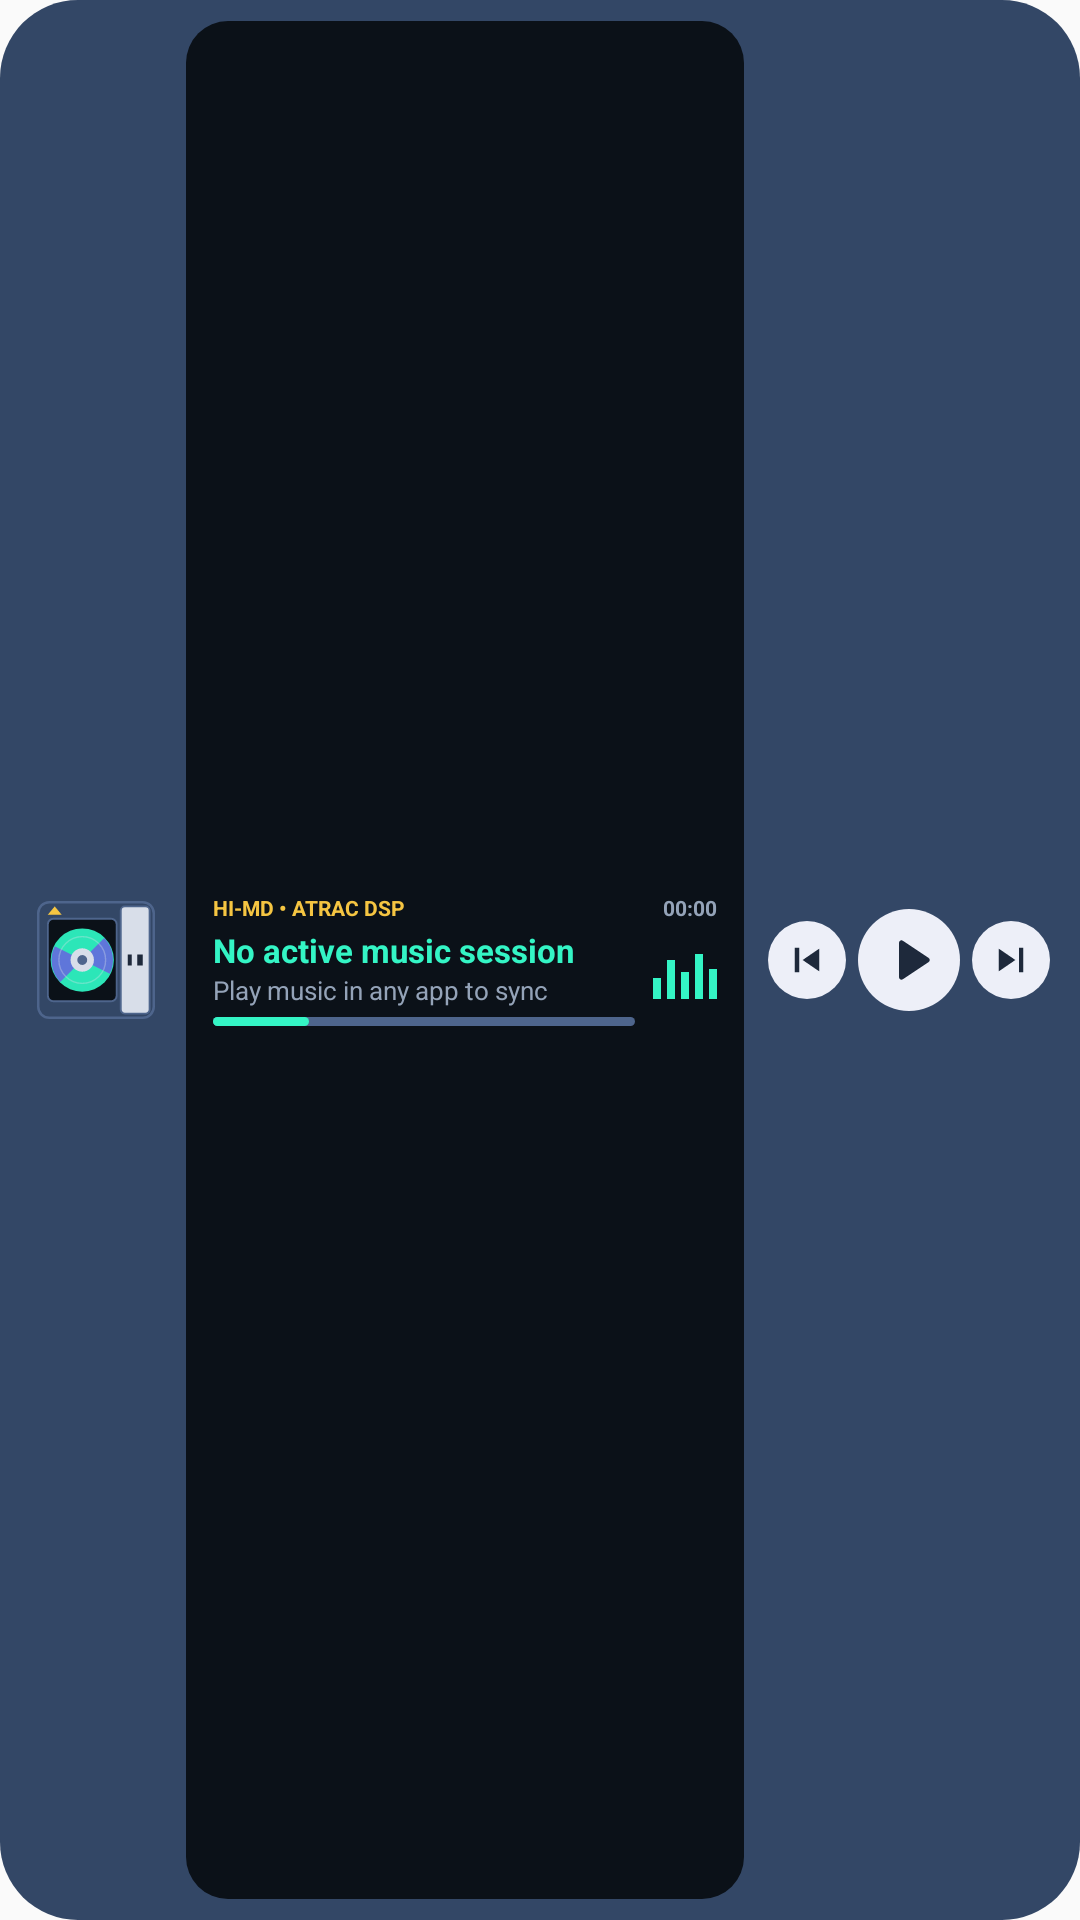

Named icons in this screenshot (1080*1920) and their bounding boxes, {"left": x1, "top": y1, "right": x2, "bottom": y2}:
minidisc disc: {"left": 37, "top": 901, "right": 155, "bottom": 1019}
next: {"left": 972, "top": 921, "right": 1050, "bottom": 999}
play: {"left": 858, "top": 909, "right": 960, "bottom": 1011}
prev: {"left": 768, "top": 921, "right": 846, "bottom": 999}
